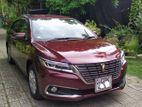car: (5, 12, 130, 101)
